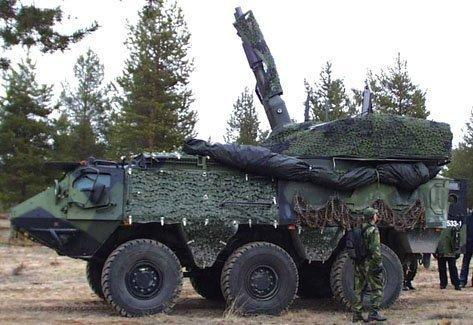MIL_IFV: (8, 5, 456, 317)
